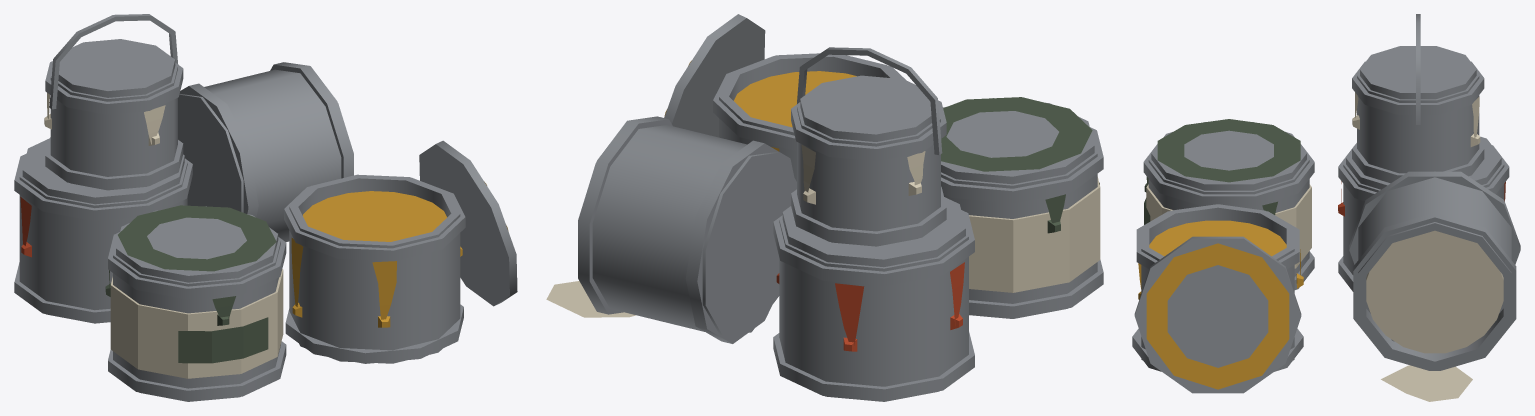
The model's file is Basement_PaintCans.fbx.
3 renders of one model, left to right at view 1: azimuth 30°, elevation 25°; view 2: azimuth 150°, elevation 25°; view 3: azimuth 270°, elevation 25°, orthographic. The views are drawn at different scales.
Parts seen in each view (by area): view 1: Steel, PaintCream, PaintGreen, PaintMustard, PaintRed; view 2: Steel, PaintCream, PaintGreen, PaintMustard, PaintRed; view 3: Steel, PaintCream, PaintMustard, PaintGreen.
Boxes of the visible parts, x1,y1,x2,y2 form: Steel: (14,14,517,401); PaintCream: (44,93,283,378); PaintGreen: (105,205,276,363); PaintMustard: (291,181,508,327); PaintRed: (20,197,31,257); Steel: (578,14,1103,401); PaintCream: (546,145,1100,317); PaintGreen: (941,97,1099,233); PaintMustard: (664,60,856,151); PaintRed: (776,262,964,351); Steel: (1132,14,1520,393); PaintCream: (1146,92,1503,401); PaintMustard: (1138,220,1303,389); PaintGreen: (1144,119,1300,224).
Size of the model in its own units: 143 by 101 by 140.
